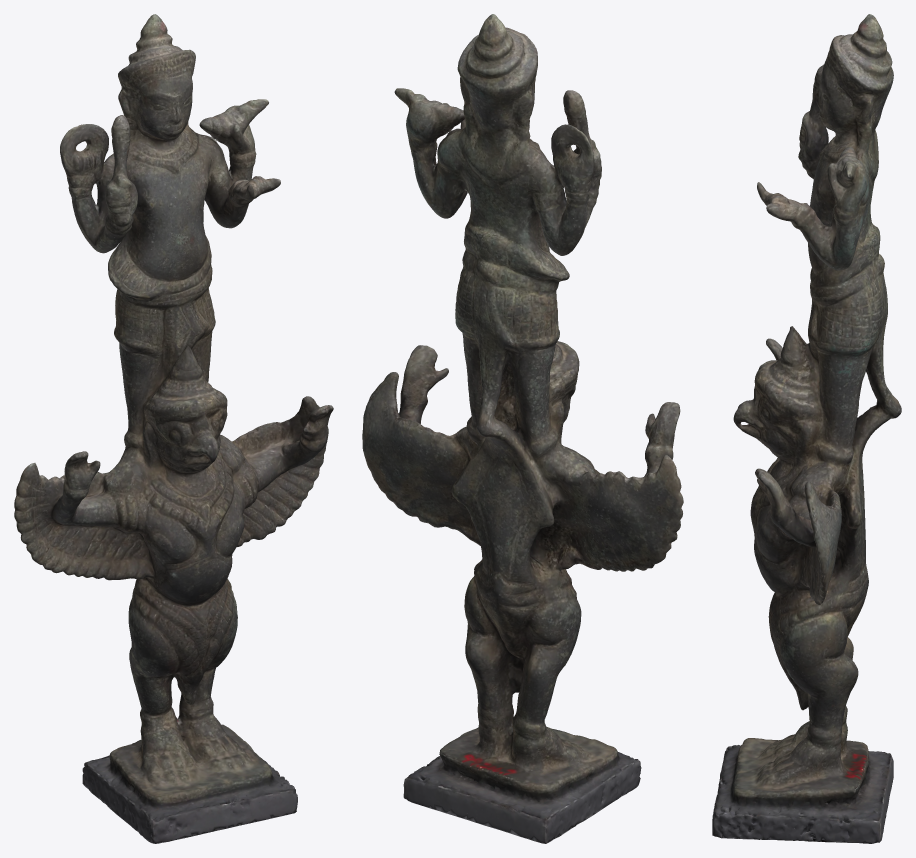
The model's file is vishnu-garuda-hi.glb.
3 renders of one model, left to right at view 1: azimuth 30°, elevation 25°; view 2: azimuth 150°, elevation 25°; view 3: azimuth 270°, elevation 25°, orthographic. The views are drawn at different scales.
Visible parts, largest first — view 1: Object_2; view 2: Object_2; view 3: Object_2.
Part boxes in pixels (<box>): Object_2: <box>14,14,333,843</box>; Object_2: <box>362,14,683,843</box>; Object_2: <box>712,14,901,843</box>.
Bounding box in the file's own units: 0.1538 × 0.364 × 0.0787.
Materials: 1 (1 with a texture image).
